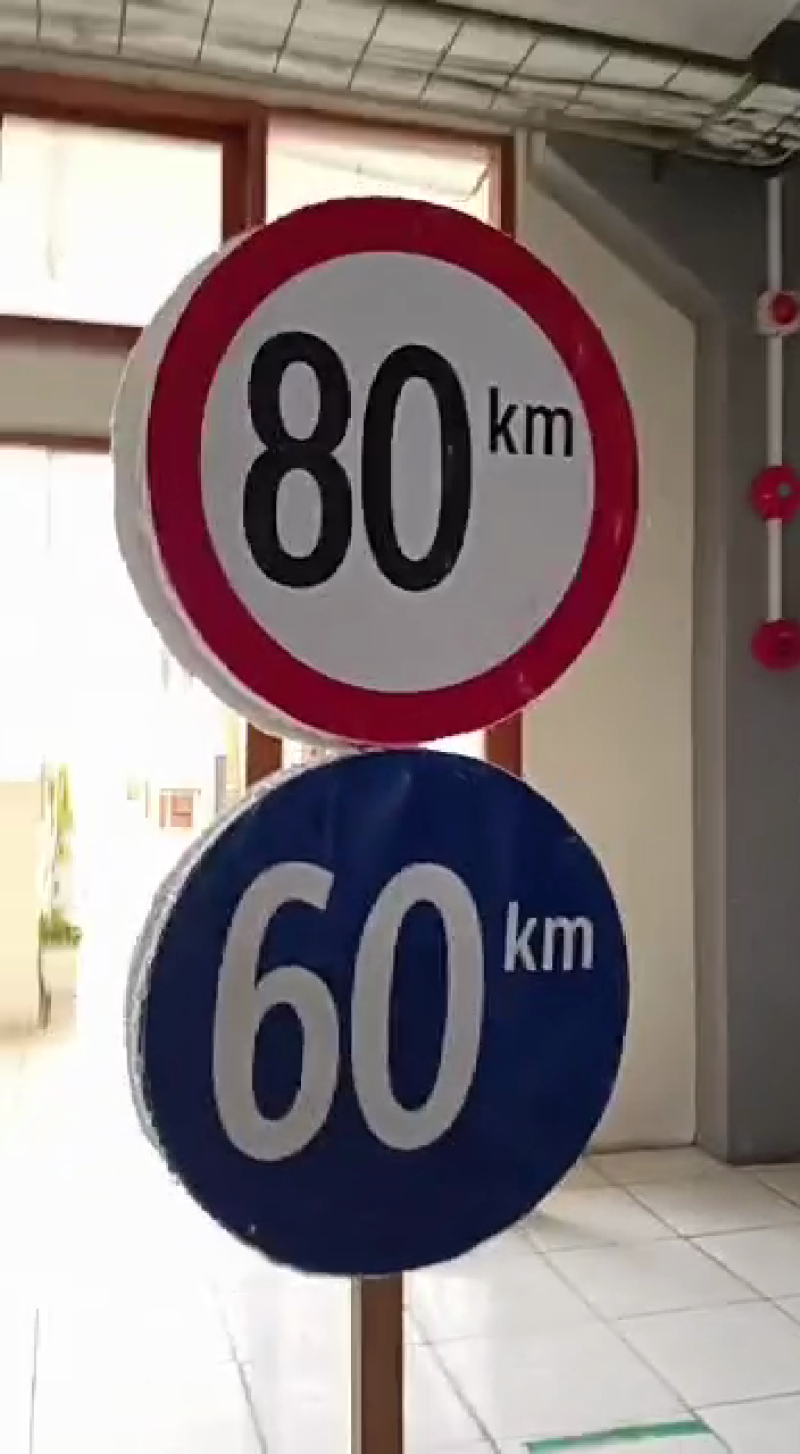batas maksimal 80kmperjam minimal 60kmperjam: (121, 185, 671, 1296)
